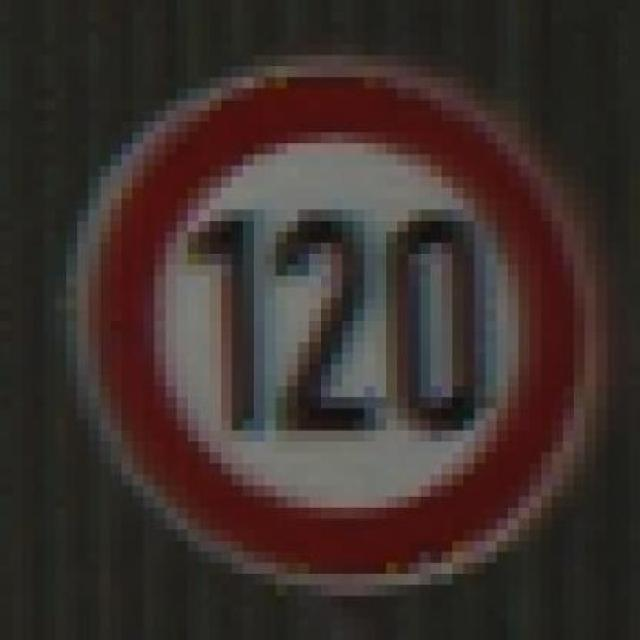forb_speed_over_120: (82, 61, 593, 587)
